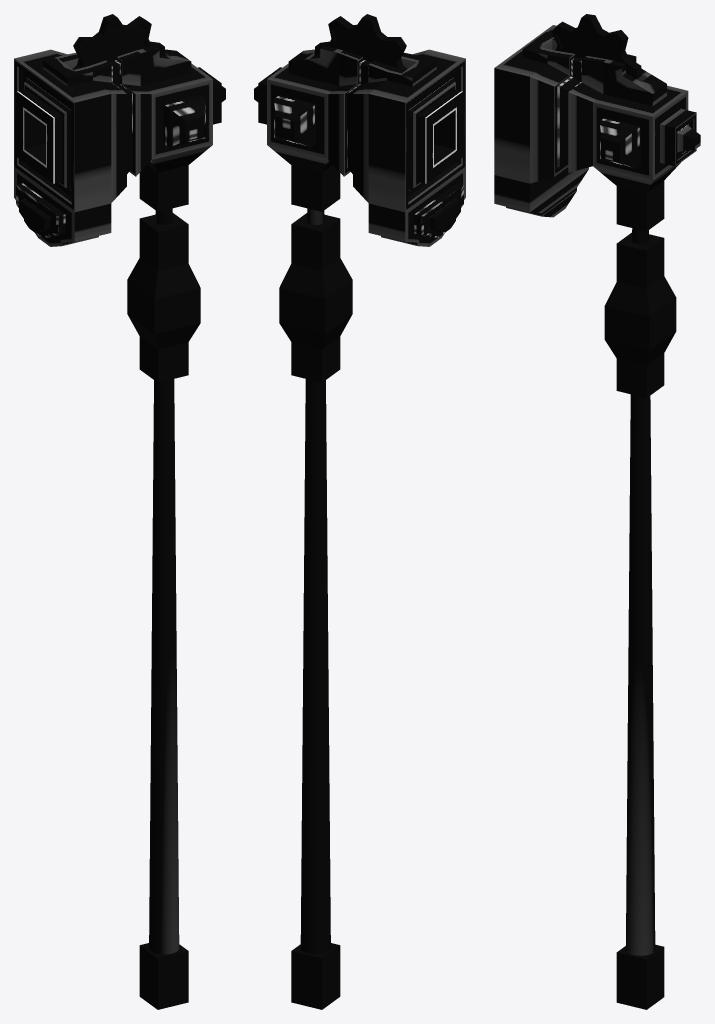
Rendered from Dispenser_2_0.fbx.
3 views of the same model, side by side, from view 1: azimuth 30°, elevation 25°; view 2: azimuth 150°, elevation 25°; view 3: azimuth 330°, elevation 25° (orthographic). The views are drawn at different scales.
Parts seen in each view (by area): view 1: Dispenser, Dispenser_Prop_0, Dispenser_Prop_1, Gear; view 2: Dispenser, Dispenser_Prop_0, Dispenser_Prop_1, Gear; view 3: Dispenser, Dispenser_Prop_0, Dispenser_Prop_1, Gear.
Boxes of the visible parts, left/top/right/bottom form: Dispenser: left=14, top=45, right=225, bottom=246; Dispenser_Prop_0: left=139, top=165, right=188, bottom=1009; Dispenser_Prop_1: left=127, top=213, right=200, bottom=382; Gear: left=72, top=14, right=165, bottom=69; Dispenser: left=254, top=45, right=465, bottom=246; Dispenser_Prop_0: left=291, top=165, right=340, bottom=1009; Dispenser_Prop_1: left=279, top=213, right=352, bottom=382; Gear: left=314, top=14, right=407, bottom=69; Dispenser: left=494, top=25, right=700, bottom=217; Dispenser_Prop_0: left=616, top=181, right=664, bottom=1009; Dispenser_Prop_1: left=604, top=232, right=676, bottom=397; Gear: left=552, top=14, right=641, bottom=78.
Bounding box in the file's own units: 1.83 × 9.08 × 1.01.
Materials: 1 (1 with a texture image).
